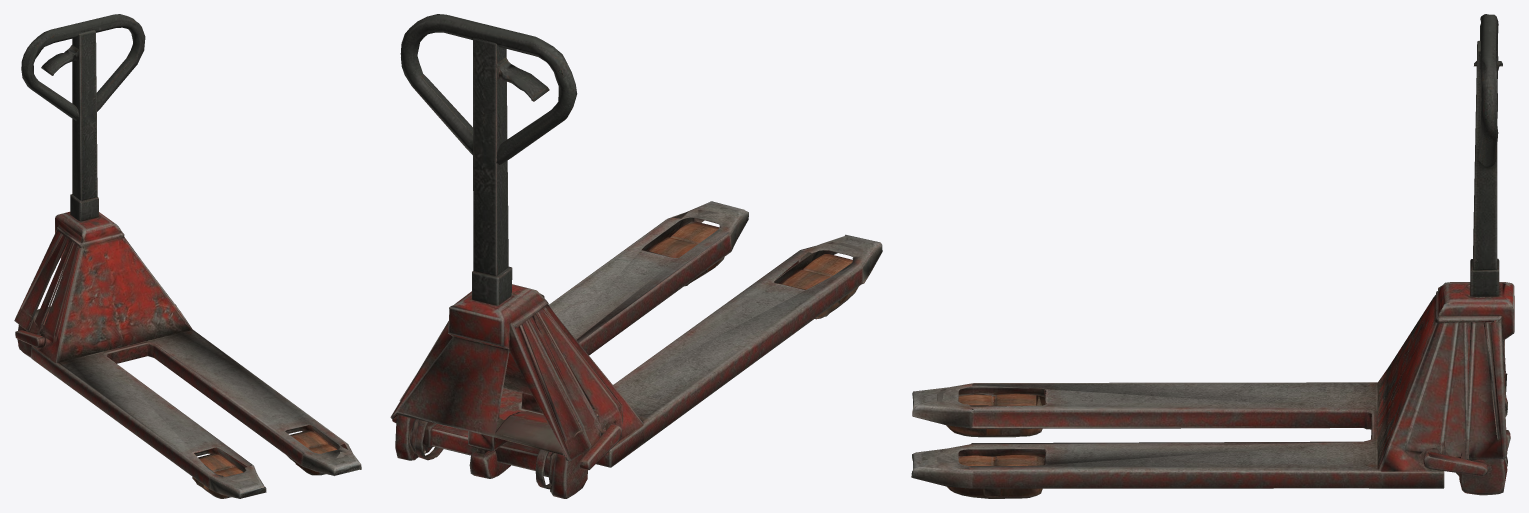
The model's file is p7-pallet-jack-t25.glb.
The picture shows the model from 3 angles, left to right: view 1: azimuth 30°, elevation 25°; view 2: azimuth 150°, elevation 25°; view 3: azimuth 270°, elevation 25°; orthographic projection. The views are drawn at different scales.
Visible parts, largest first — view 1: p7-pallet-jack-t25; view 2: p7-pallet-jack-t25; view 3: p7-pallet-jack-t25.
Boxes of the visible parts, x1=… form: p7-pallet-jack-t25: x1=14, y1=14, x2=361, y2=498; p7-pallet-jack-t25: x1=390, y1=14, x2=882, y2=498; p7-pallet-jack-t25: x1=911, y1=14, x2=1514, y2=498.
Bounding box in the file's own units: 0.55 × 1.2 × 1.55.
1 material, 1 textured.
